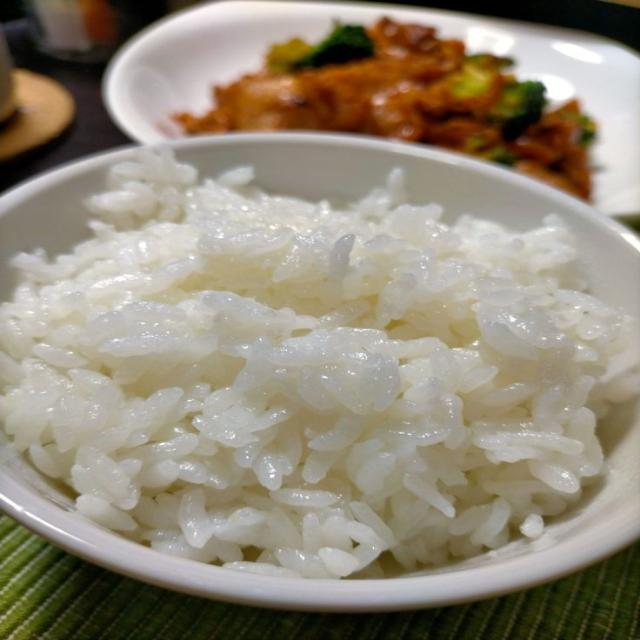rice: (0, 152, 624, 578)
